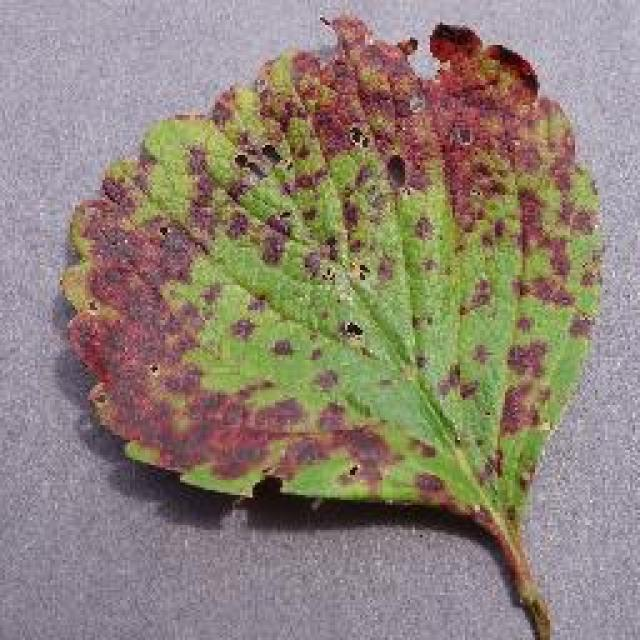Strawberry leaf scorch: (150, 137, 527, 475)
